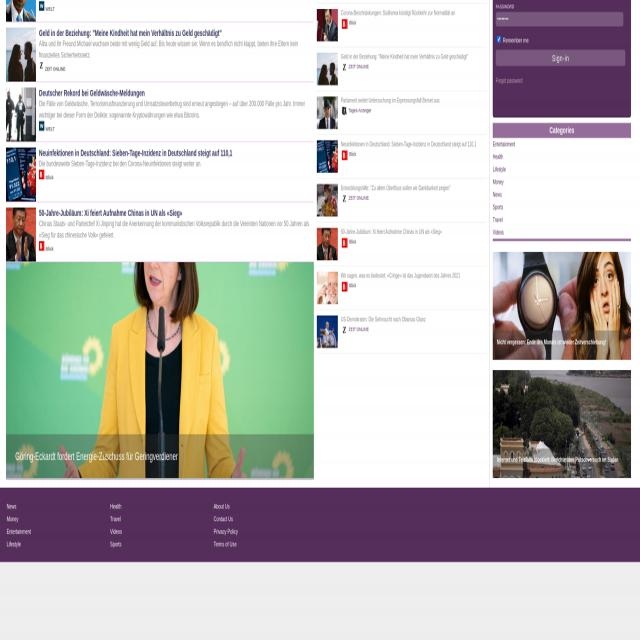button: (6, 262, 314, 478), (493, 369, 631, 478), (493, 252, 631, 360), (496, 50, 625, 66), (6, 88, 36, 142), (6, 148, 36, 202), (6, 208, 36, 262), (6, 28, 36, 82), (316, 8, 338, 43), (316, 140, 338, 174), (316, 315, 338, 349), (316, 52, 338, 86), (316, 96, 338, 129), (316, 184, 338, 217), (316, 228, 338, 261), (6, 0, 36, 24), (316, 272, 338, 304), (39, 121, 45, 131), (342, 150, 348, 160), (39, 170, 45, 180), (342, 19, 348, 29), (342, 238, 348, 248), (39, 241, 45, 251), (342, 282, 348, 292), (39, 1, 45, 11), (342, 62, 347, 72), (342, 106, 347, 115), (342, 194, 347, 203), (39, 61, 44, 70), (342, 326, 347, 334)
field: (496, 12, 623, 26), (497, 36, 501, 42)
